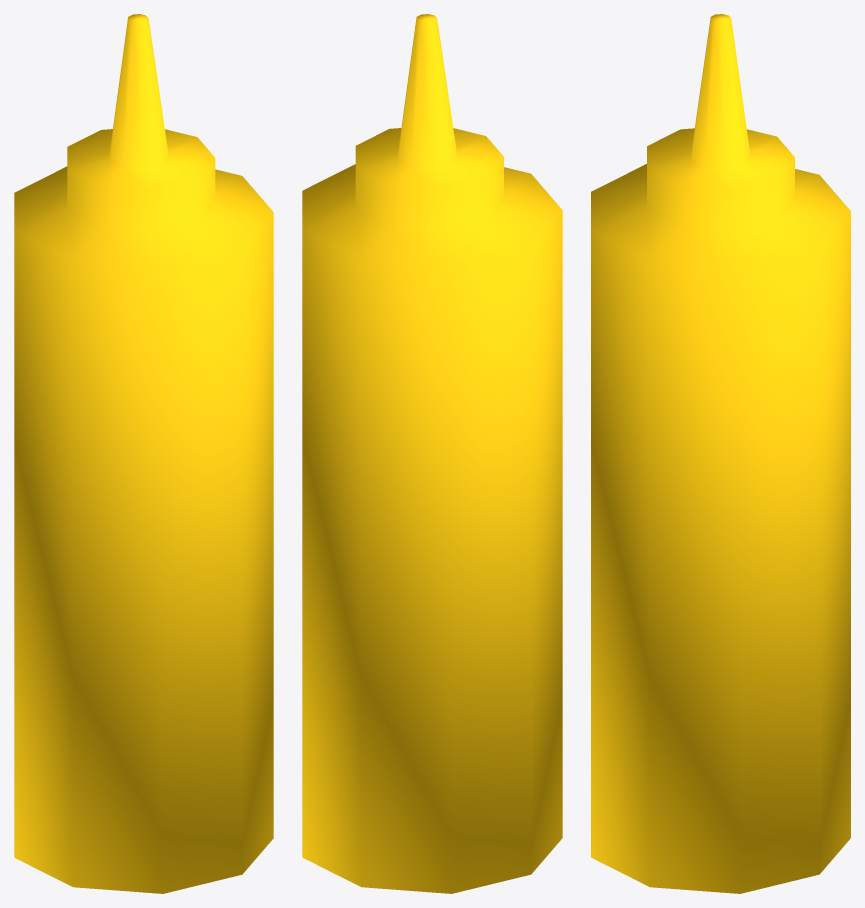
The model's file is SqueezeBottleMustard.glb.
3 renders of one model, left to right at view 1: azimuth 30°, elevation 25°; view 2: azimuth 150°, elevation 25°; view 3: azimuth 270°, elevation 25°, orthographic.
Visible parts, largest first — view 1: SqueezeBottleMustard; view 2: SqueezeBottleMustard; view 3: SqueezeBottleMustard.
Part boxes in pixels (x1,y1,x2,y2): SqueezeBottleMustard: [14, 14, 273, 893]; SqueezeBottleMustard: [302, 14, 562, 893]; SqueezeBottleMustard: [591, 14, 850, 893].
Bounding box in the file's own units: 0.0985 × 0.3435 × 0.097.
Materials: 1 (1 with a texture image).
